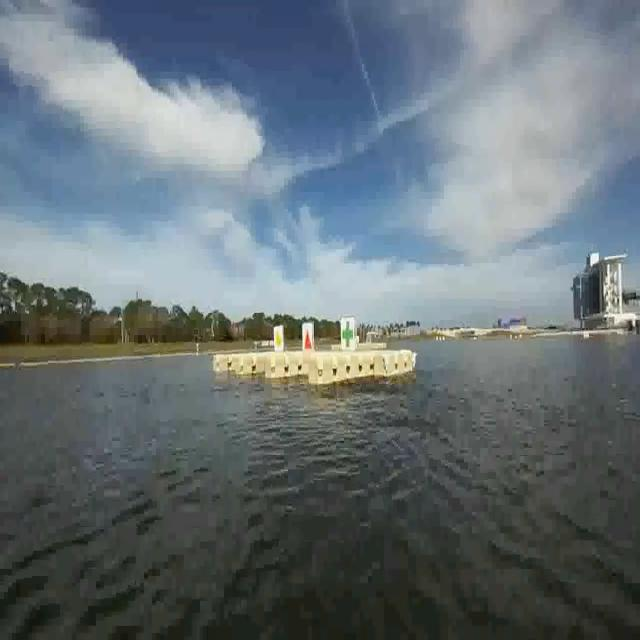blue-cross: (342, 313, 357, 353)
red-dot: (300, 322, 316, 357)
yellow-duck: (273, 326, 284, 354)
